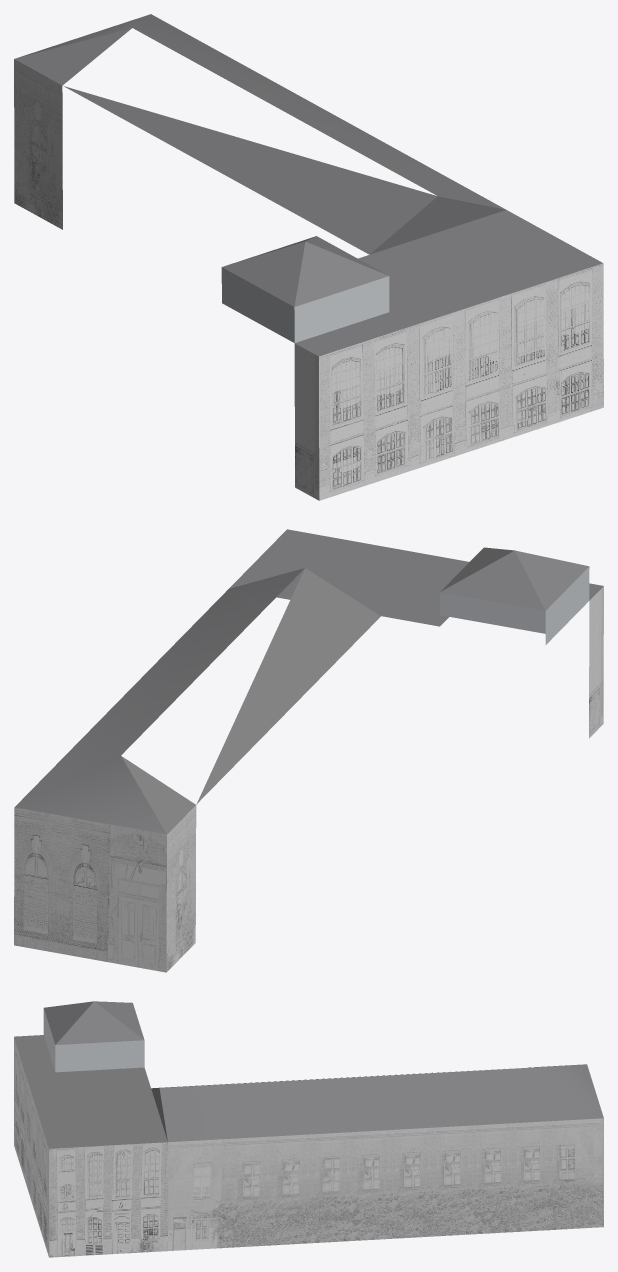
Rendered from Sachsenber-Bau.gltf.
3 renders of one model, top to bottom at view 1: azimuth 30°, elevation 25°; view 2: azimuth 150°, elevation 25°; view 3: azimuth 270°, elevation 25°, orthographic. The views are drawn at different scales.
Parts seen in each view (by area): view 1: Dach.1; view 2: Dach.1; view 3: Dach.1.
Boxes of the visible parts, left/top/right/bottom form: Dach.1: left=14, top=14, right=603, bottom=500; Dach.1: left=14, top=529, right=603, bottom=972; Dach.1: left=14, top=1001, right=603, bottom=1257.
Bounding box in the file's own units: 28.38 × 17.51 × 59.03.
Materials: 8 (6 with a texture image).
